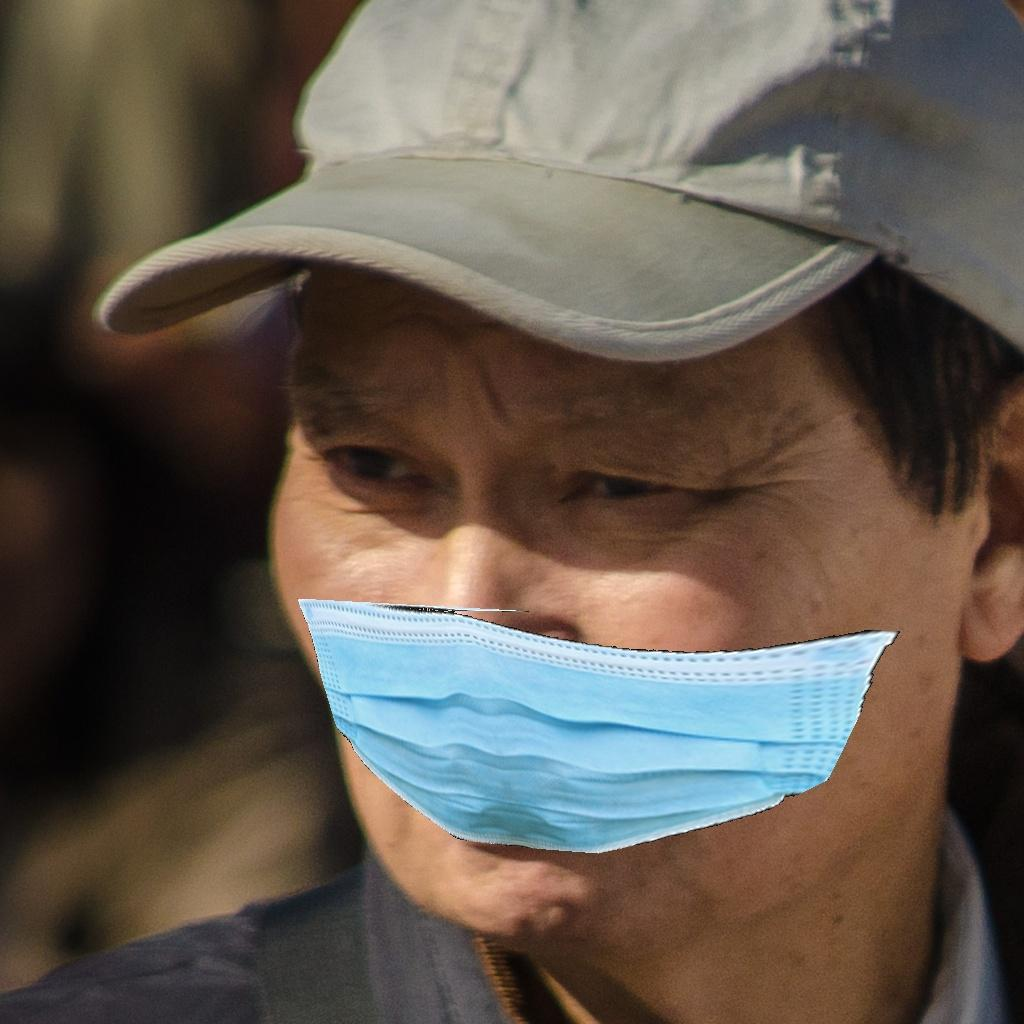Máscara Incorreta: (233, 248, 920, 897)
